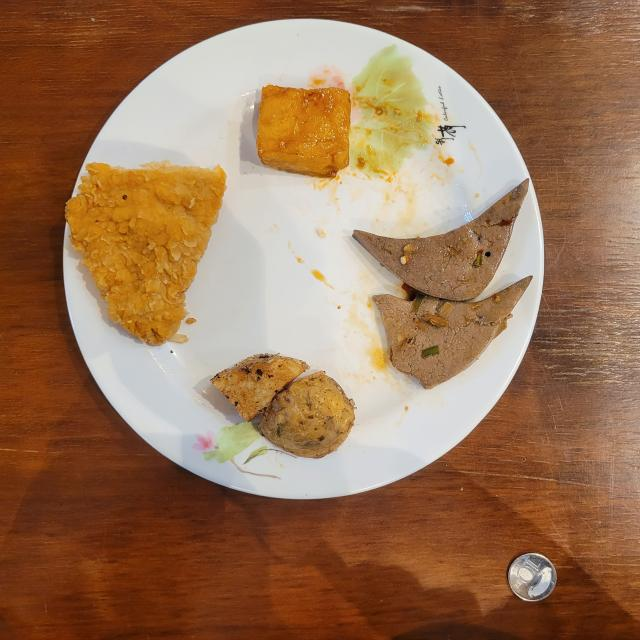coin: (508, 552, 556, 601)
creamy tofu: (256, 85, 351, 178)
fried chicken cutlet: (66, 160, 226, 345)
fried potato: (211, 354, 355, 459)
pig liver: (354, 180, 531, 389)
